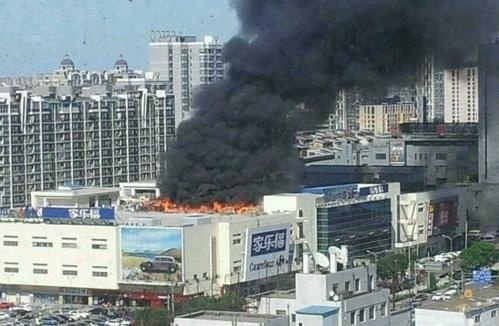fire: (155, 195, 261, 213)
